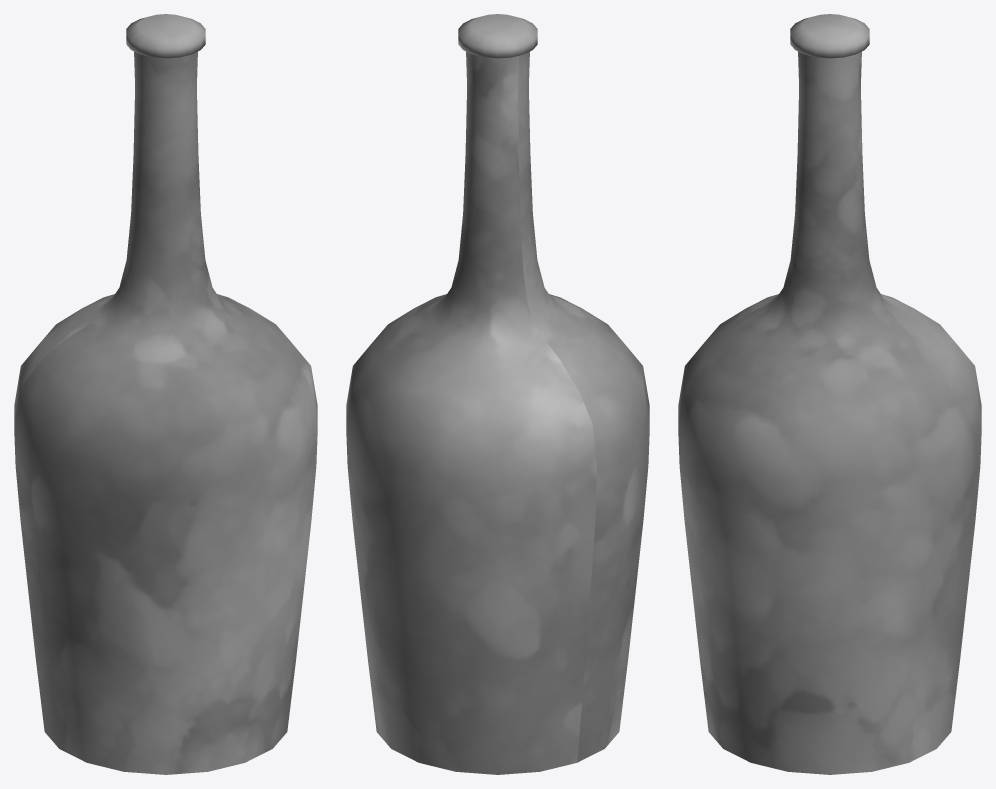
Rendered from SM_Bottle_02a.fbx.
3 renders of one model, left to right at view 1: azimuth 30°, elevation 25°; view 2: azimuth 150°, elevation 25°; view 3: azimuth 270°, elevation 25°, orthographic.
Visible parts, largest first — view 1: SM_Bottle_02a_LOD0; view 2: SM_Bottle_02a_LOD0; view 3: SM_Bottle_02a_LOD0.
Boxes of the visible parts, <box> form: SM_Bottle_02a_LOD0: <box>14,14,317,774</box>; SM_Bottle_02a_LOD0: <box>346,14,649,774</box>; SM_Bottle_02a_LOD0: <box>678,14,981,774</box>.
Size of the model in its own units: 18.83 by 18.55 by 47.
